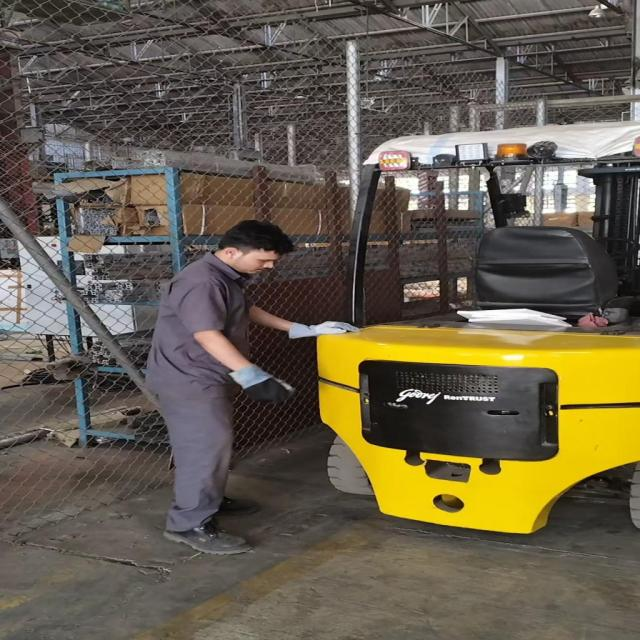Gloves-Detection: (222, 366, 290, 407), (274, 307, 350, 343)
